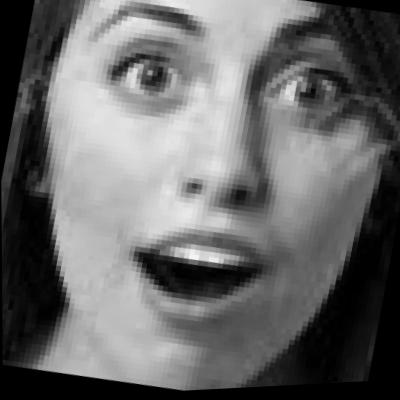surprise: (14, 0, 397, 399)
